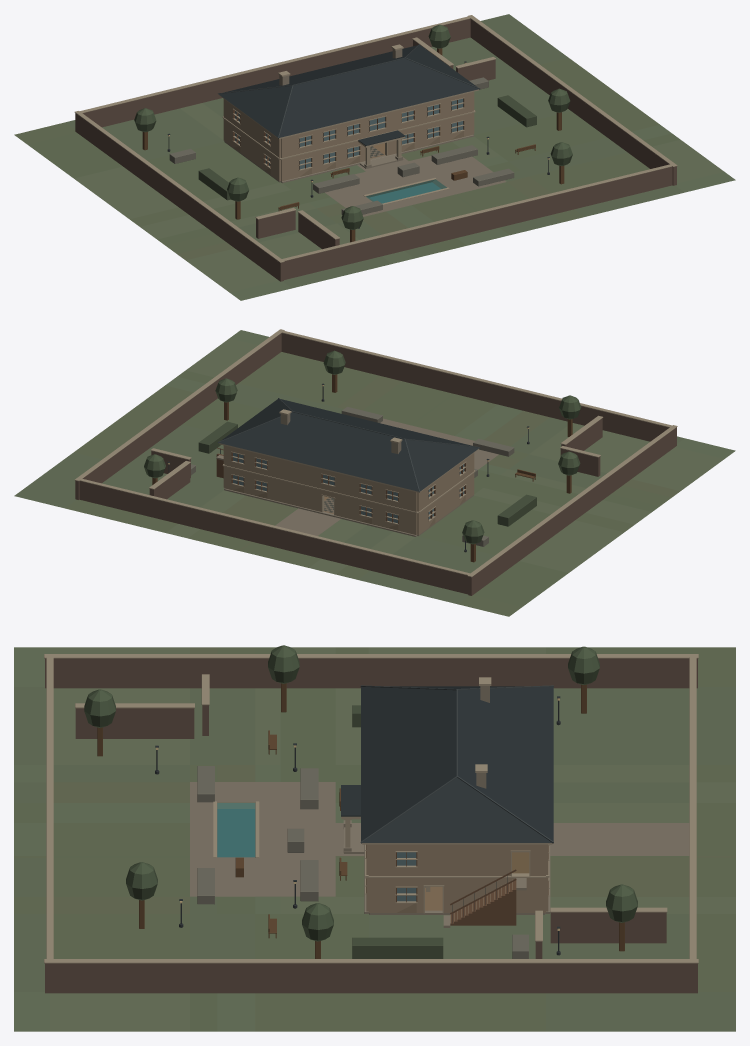
3 renders of one model, top to bottom at view 1: azimuth 30°, elevation 25°; view 2: azimuth 150°, elevation 25°; view 3: azimuth 270°, elevation 25°, orthographic. The views are drawn at different scales.
Parts seen in each view (by area): view 1: garden--1-0-0, garden-1-0-0, brick-0-1-1, garden--1--1-0, garden--1-1-0, garden-1-1-0, garden-0-1-0, roof-0-0-1, brick-0--1-1, roof--1-0-1, brick--1-0-1, stone-0-0-1 (+20 smaller); view 2: garden--1-0-0, brick-0--1-1, garden-0-1-0, garden-1-0-0, garden--1-1-0, garden--1--1-0, brick-0-1-1, garden-1-1-0, garden-1--1-0, garden-0--1-0, roof--1--1-1, brick--1-0-1 (+18 smaller); view 3: garden-1-0-0, garden-0-1-0, brick-1-0-1, garden--1--1-0, brick--1-0-1, garden-1-1-0, garden-0--1-0, garden--1-1-0, garden--1-0-0, garden-1--1-0, roof-0-0-1, stone-0-0-0 (+20 smaller).
Part boxes in pixels (x1,y1,x2,y2): garden--1-0-0: (74,108,345,253); garden-1-0-0: (474,57,671,170); brick-0-1-1: (278,166,672,280); garden--1--1-0: (14,103,224,178); garden--1-1-0: (177,206,414,300); garden-1-1-0: (521,133,735,216); garden-0-1-0: (363,142,583,258); roof-0-0-1: (279,45,478,145); brick-0--1-1: (76,19,470,132); roof--1-0-1: (218,59,403,145); brick--1-0-1: (75,113,295,281); stone-0-0-1: (224,89,514,214); garden--1-0-0: (417,451,671,572); brick-0--1-1: (79,463,473,595); garden-0-1-0: (323,350,549,446); garden-1-0-0: (74,377,274,488); garden--1-1-0: (499,395,735,497); garden--1--1-0: (335,532,568,616); brick-0-1-1: (281,333,668,441); garden-1-1-0: (177,330,379,411); garden-1--1-0: (14,452,223,532); garden-0--1-0: (166,490,393,574); roof--1--1-1: (219,439,418,491); brick--1-0-1: (468,427,676,595); garden-1-0-0: (217,903,545,1031); garden-0-1-0: (14,782,217,913); brick-1-0-1: (45,941,697,993); garden--1--1-0: (546,647,735,782); brick--1-0-1: (45,658,697,735); garden-1-1-0: (14,914,217,1031); garden-0--1-0: (550,782,735,913); garden--1-1-0: (14,647,217,782); garden--1-0-0: (217,645,599,782); garden-1--1-0: (546,884,735,1031); roof-0-0-1: (341,686,551,842); stone-0-0-0: (217,782,364,896).
Bounding box in the file's own units: 71.8 × 11.39 × 57.
